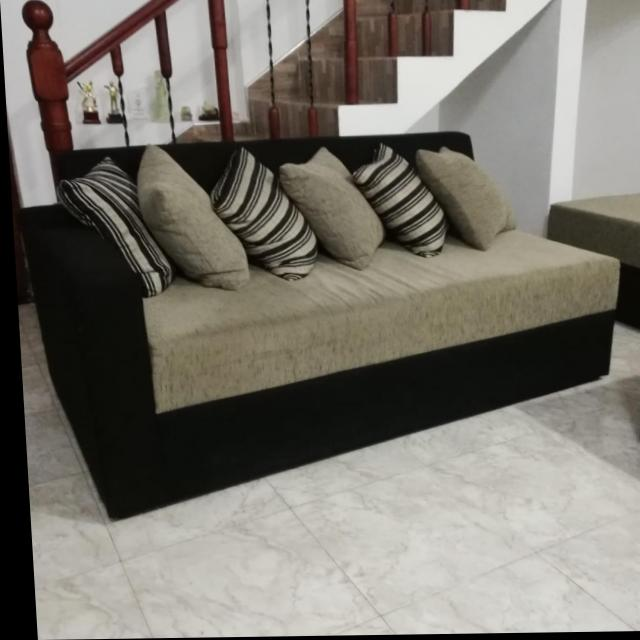Sofa: (17, 130, 629, 521)
